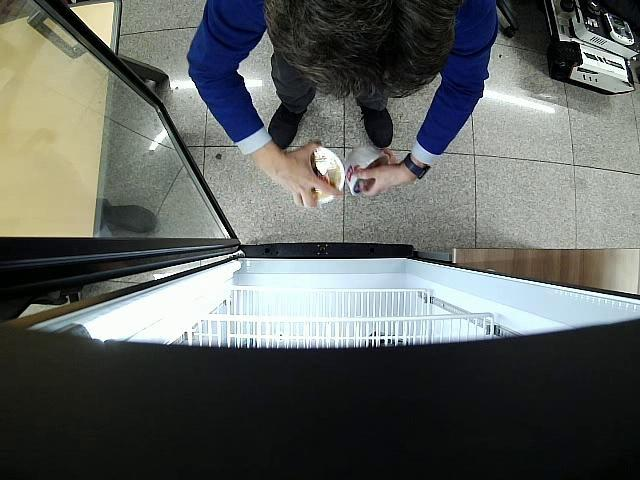09_yukGaeJang: (346, 145, 391, 196), (312, 146, 346, 204)
